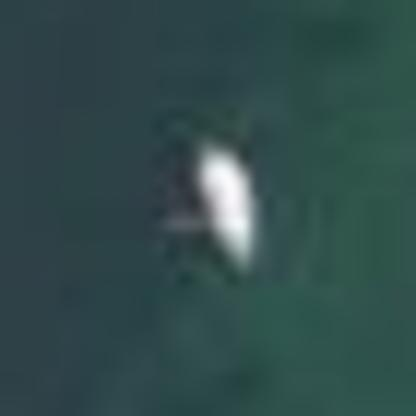ship: (154, 122, 281, 288)
